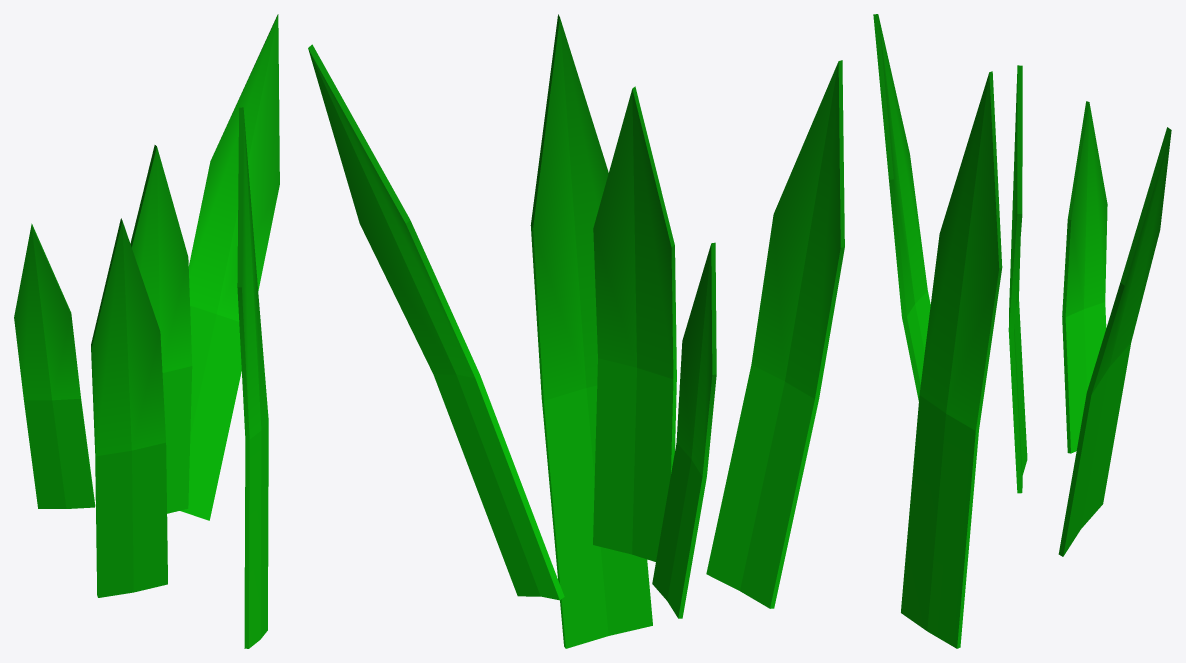
File: Grama.fbx
3 renders of one model, left to right at view 1: azimuth 30°, elevation 25°; view 2: azimuth 150°, elevation 25°; view 3: azimuth 270°, elevation 25°, orthographic. The views are drawn at different scales.
Visible parts, largest first — view 1: Grama; view 2: Grama; view 3: Grama.
Boxes of the visible parts, x1=… form: Grama: x1=14, y1=14, x2=279, y2=648; Grama: x1=308, y1=14, x2=844, y2=648; Grama: x1=873, y1=14, x2=1171, y2=648.
Bounding box in the file's own units: 89.28 × 145 × 67.91.
